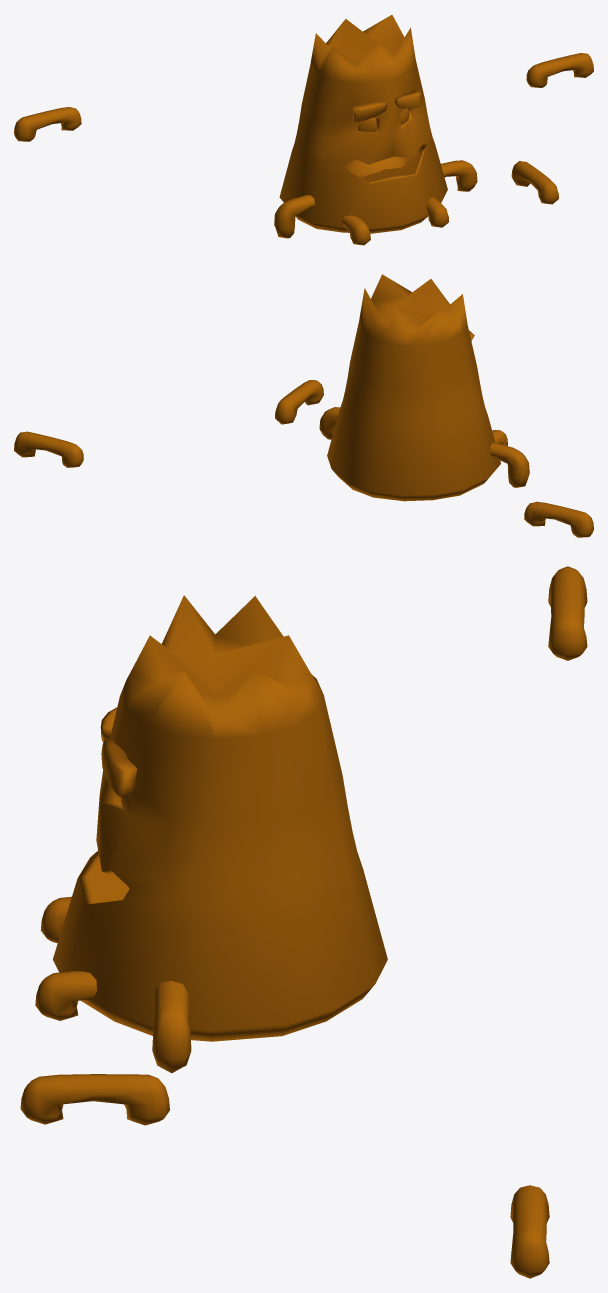
Rendered from DarkEnemyFinalBossDefeated.fbx.
3 views of the same model, one above another, from view 1: azimuth 30°, elevation 25°; view 2: azimuth 150°, elevation 25°; view 3: azimuth 270°, elevation 25° (orthographic). The views are drawn at different scales.
Visible parts, largest first — view 1: DarkEnemyTreeFinal18, Root8, Root7, Root6, Root3, Root4, Tongue, Root2, Root5; view 2: DarkEnemyTreeFinal18, Root8, Root7, Root6, Root3, Root4; view 3: DarkEnemyTreeFinal18, Root6, Root7, Root8, Root4, Root5, Root2.
Boxes of the visible parts, bbox=[...] form: DarkEnemyTreeFinal18: bbox=[279, 15, 447, 233]; Root8: bbox=[14, 107, 81, 141]; Root7: bbox=[526, 53, 593, 87]; Root6: bbox=[511, 161, 558, 204]; Root3: bbox=[274, 195, 314, 238]; Root4: bbox=[441, 160, 477, 191]; Tongue: bbox=[343, 156, 405, 176]; Root2: bbox=[342, 215, 370, 245]; Root5: bbox=[427, 197, 448, 227]; DarkEnemyTreeFinal18: bbox=[327, 274, 500, 501]; Root8: bbox=[524, 501, 593, 537]; Root7: bbox=[14, 431, 83, 467]; Root6: bbox=[275, 380, 323, 424]; Root3: bbox=[490, 442, 529, 487]; Root4: bbox=[319, 407, 340, 439]; DarkEnemyTreeFinal18: bbox=[53, 595, 387, 1041]; Root6: bbox=[20, 1074, 169, 1125]; Root7: bbox=[510, 1185, 549, 1278]; Root8: bbox=[548, 566, 587, 660]; Root4: bbox=[152, 980, 191, 1073]; Root5: bbox=[35, 971, 96, 1020]; Root2: bbox=[40, 896, 71, 943].
Size of the model in its own units: 87.05 by 26.07 by 37.64.
